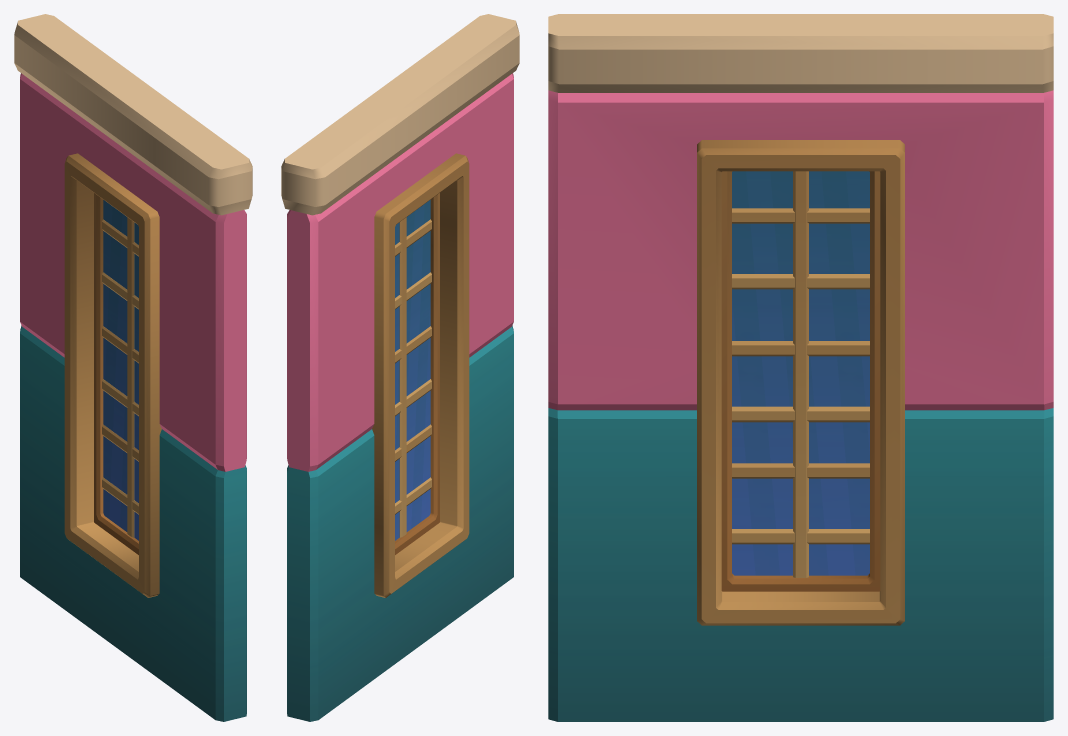
File: Wall_C_4.glb
3 views of the same model, side by side, from view 1: azimuth 30°, elevation 25°; view 2: azimuth 150°, elevation 25°; view 3: azimuth 270°, elevation 25° (orthographic). The views are drawn at different scales.
Parts seen in each view (by area): view 1: Wall_C_4; view 2: Wall_C_4; view 3: Wall_C_4.
Boxes of the visible parts, left/top/right/bottom form: Wall_C_4: left=14, top=14, right=252, bottom=721; Wall_C_4: left=281, top=14, right=519, bottom=721; Wall_C_4: left=548, top=14, right=1053, bottom=721.
Bounding box in the file's own units: 0.3277 × 3 × 2.
Materials: 2 (2 with a texture image).
